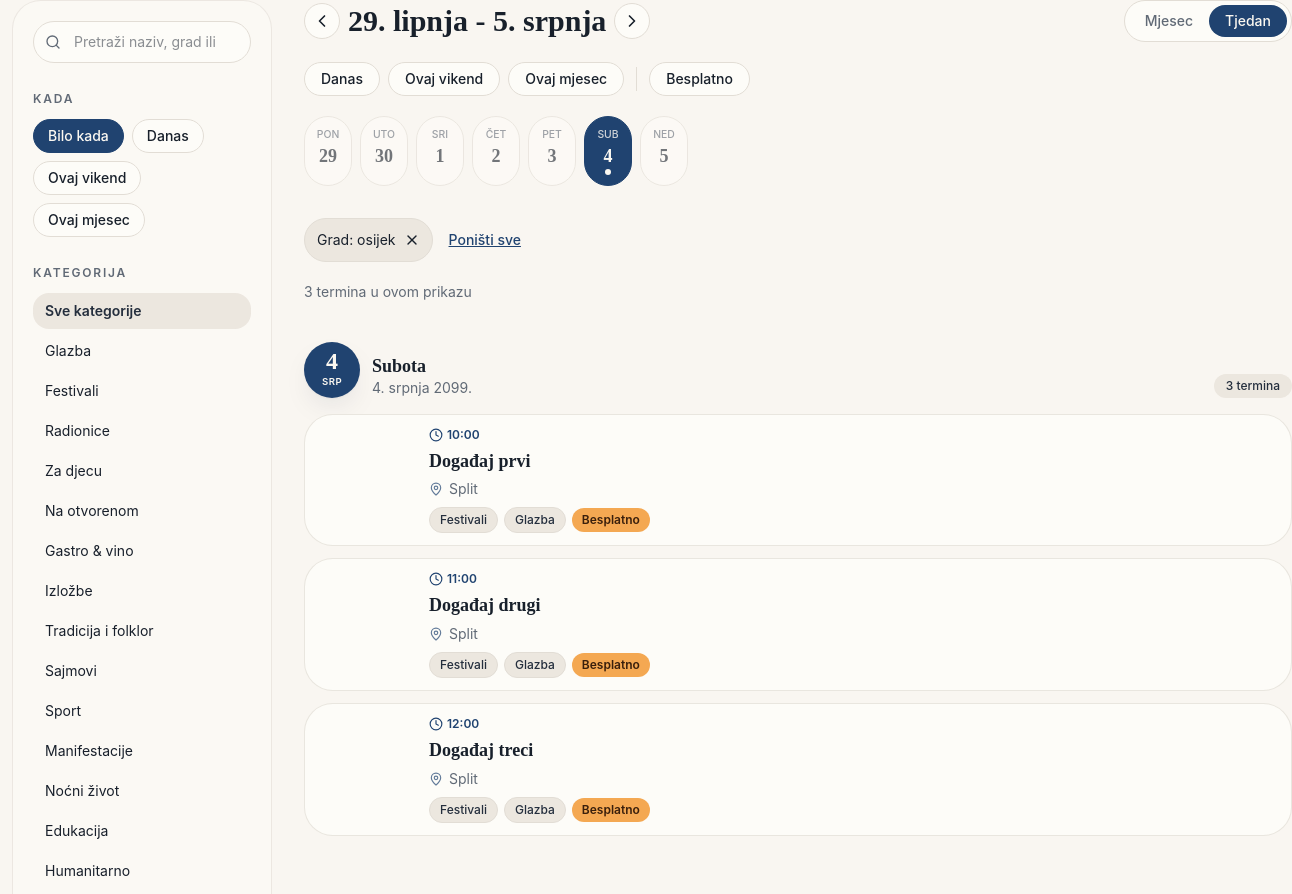
Test: restores after the Natrag na kalendar link, regardless of query parameter order
Later steps or results of the test are not shown.
(page scrolled)
What coordinates should you click on to do the following:
click the link "11:00 Događaj drugi Split Festivali Glazba Besplatno"
I would click on:
 (485, 605)
Its box is [304, 558, 1291, 691].
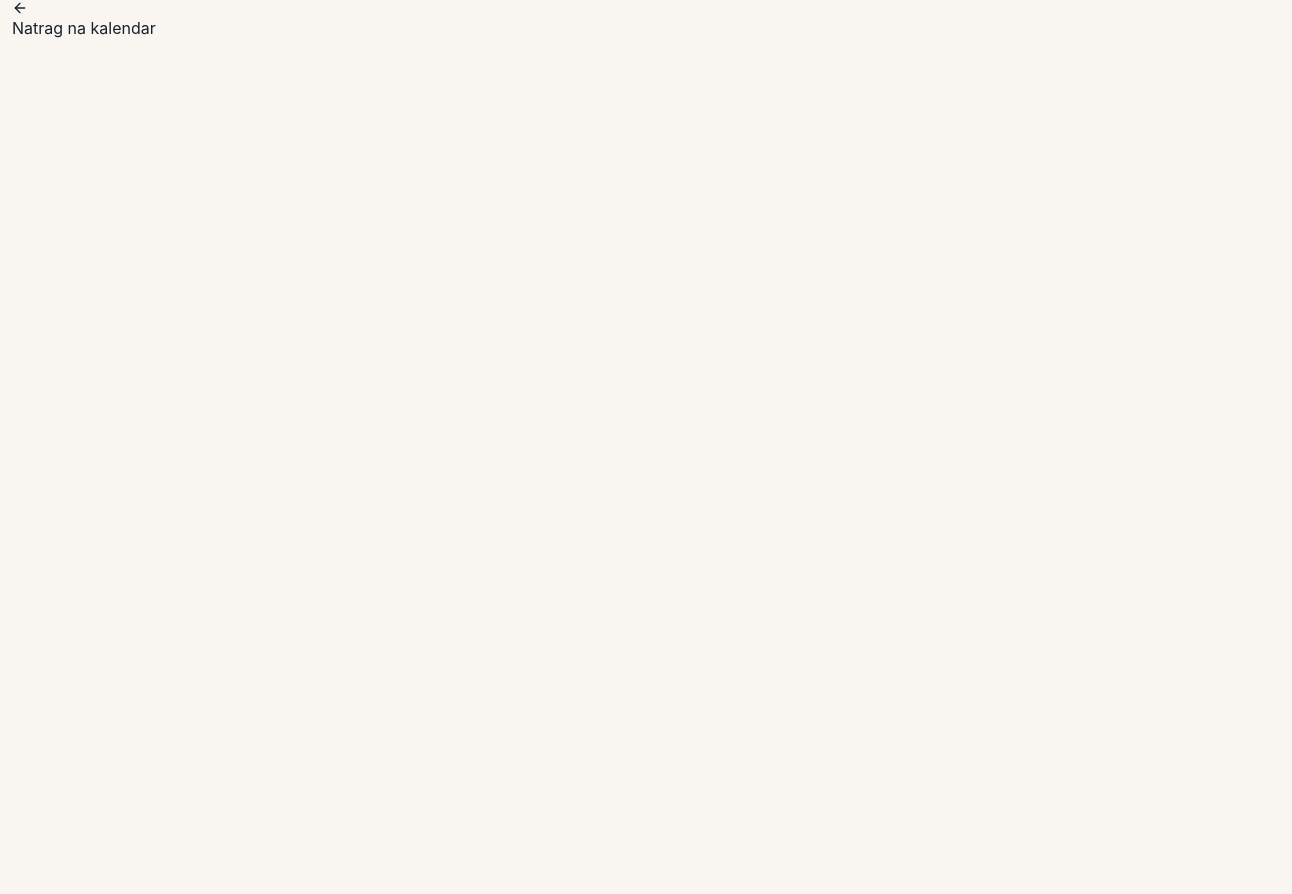
Check: the link "Natrag na kalendar" is shown, box [12, 0, 156, 38]
